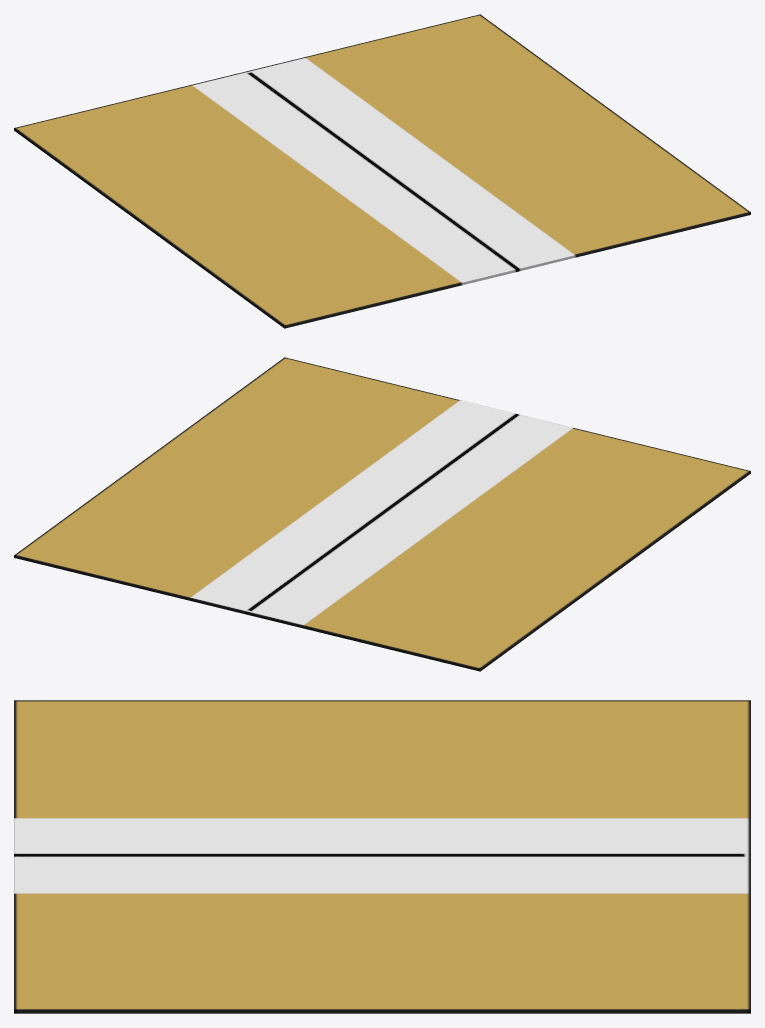
The model's file is CAixa tampa.fbx.
The picture shows the model from 3 angles, top to bottom: view 1: azimuth 30°, elevation 25°; view 2: azimuth 150°, elevation 25°; view 3: azimuth 270°, elevation 25°; orthographic projection. The views are drawn at different scales.
Parts seen in each view (by area): view 1: Caixa.001, Caixa.002; view 2: Caixa.001, Caixa.002; view 3: Caixa.002, Caixa.001.
Part boxes in pixels (bbox=[...]): Caixa.001: bbox=[14, 71, 518, 328]; Caixa.002: bbox=[246, 14, 750, 271]; Caixa.001: bbox=[246, 414, 750, 671]; Caixa.002: bbox=[14, 357, 516, 614]; Caixa.002: bbox=[14, 856, 750, 1013]; Caixa.001: bbox=[14, 700, 750, 855].
Bounding box in the file's own units: 233 × 1.17 × 235.
